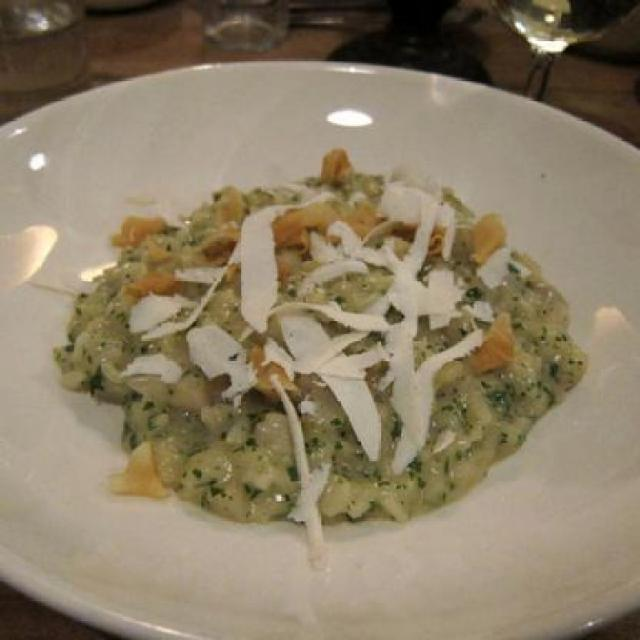Risotto: (30, 165, 616, 518)
